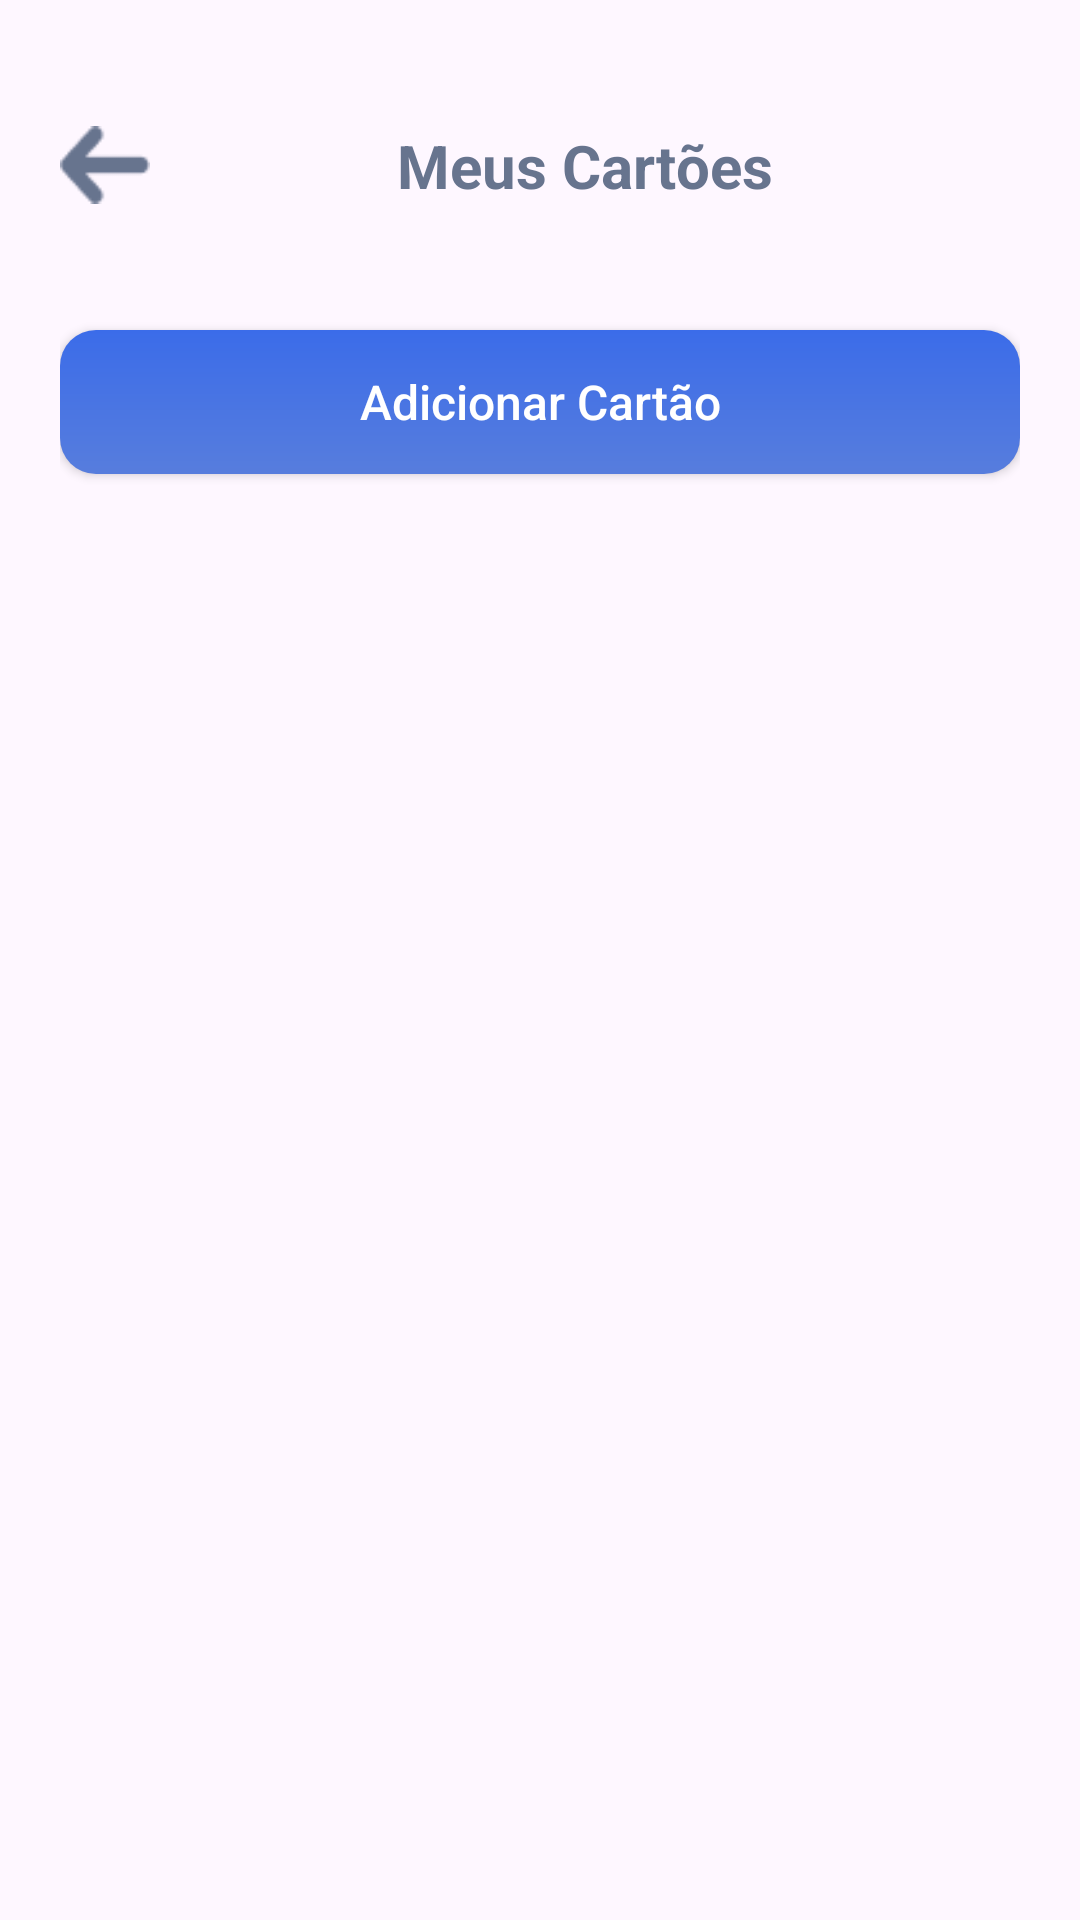

Screen size 1080x1920. Icon name, then its center in pixels as [x,y]:
arrow left: [105,165]
